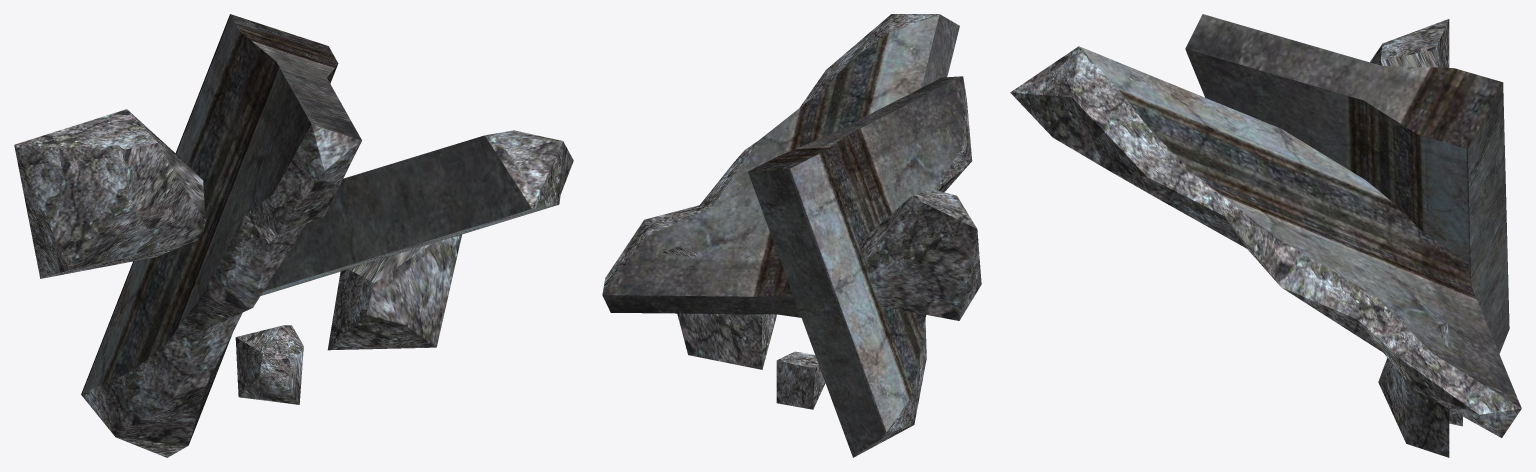
The picture shows the model from 3 angles, left to right: view 1: azimuth 30°, elevation 25°; view 2: azimuth 150°, elevation 25°; view 3: azimuth 270°, elevation 25°; orthographic projection. The views are drawn at different scales.
Visible parts, largest first — view 1: model_Object35; view 2: model_Object35; view 3: model_Object35.
Part boxes in pixels (<box>): model_Object35: <box>14,14,573,457</box>; model_Object35: <box>602,14,981,457</box>; model_Object35: <box>1010,14,1521,457</box>.
Size of the model in its own units: 5.14 by 4.31 by 4.86.
Materials: 2 (2 with a texture image).
